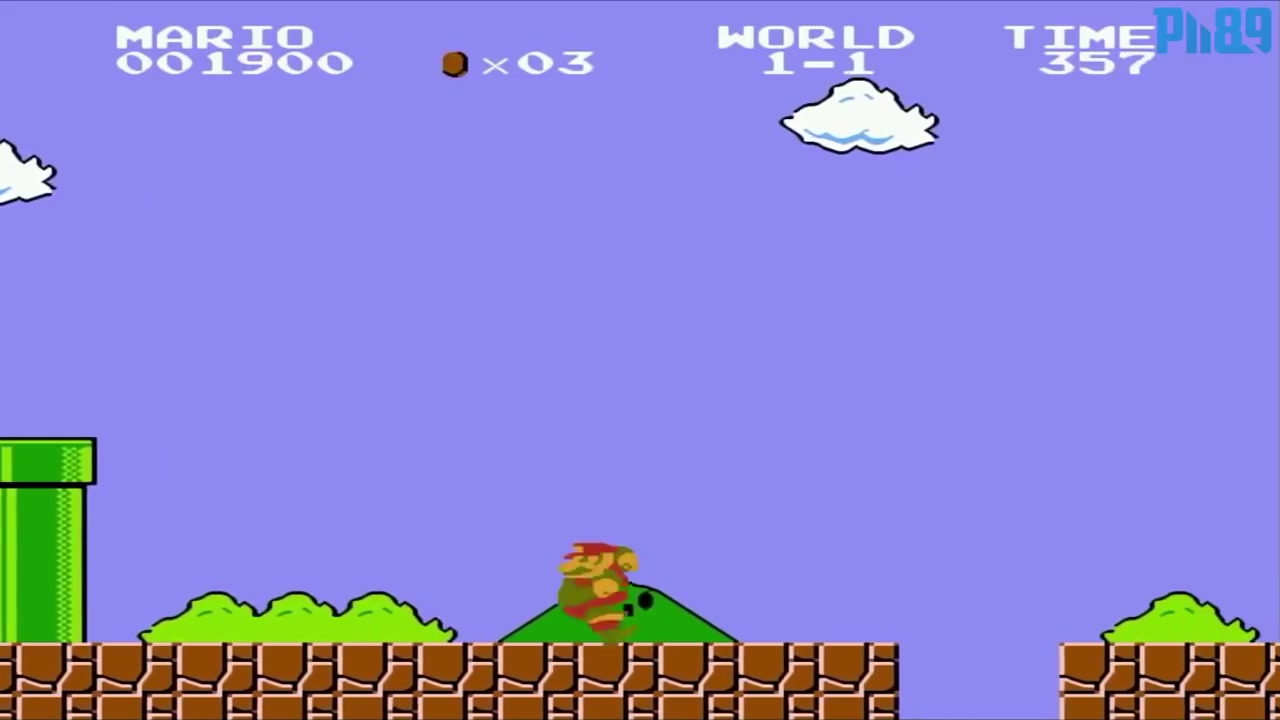mario: (543, 534, 643, 643)
